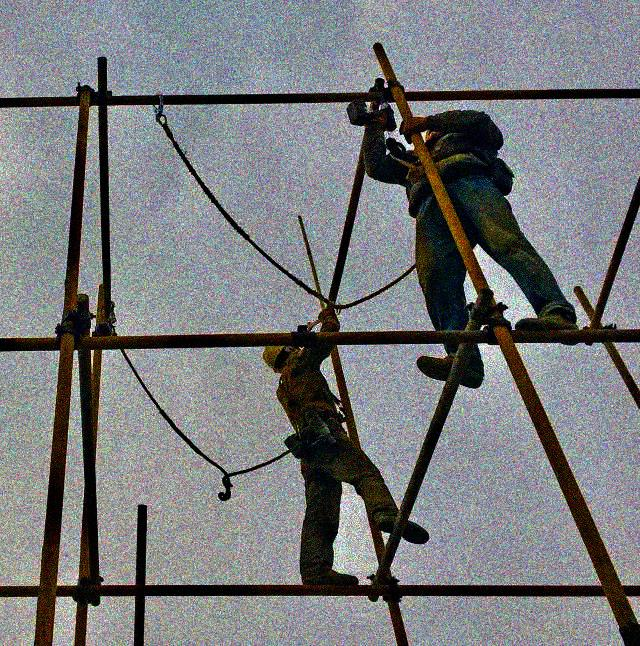helmet: (259, 337, 303, 376)
